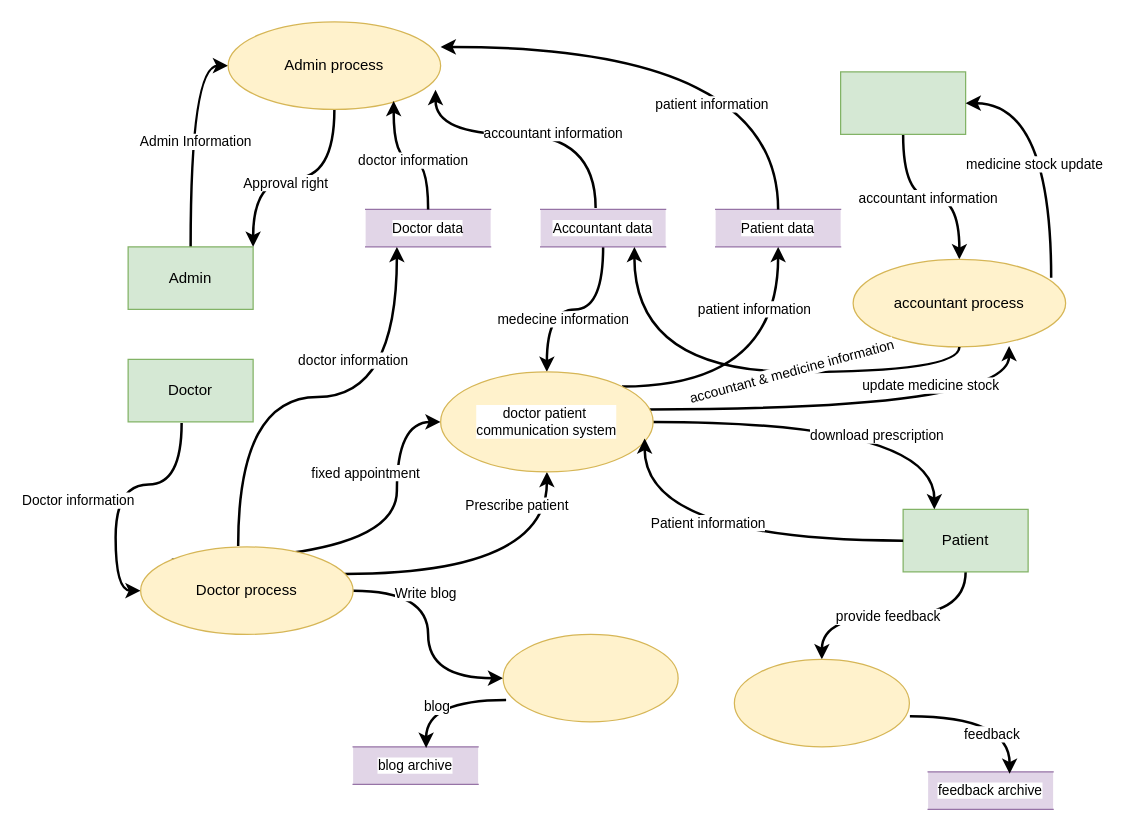
Image size: 1124x831. Some labels were removed from this diagram. Here are the shapes that lost their labels. From the top down, the centre of each, then its label:
At (902,102): "accountant".
At (590,677): "Blog process".
At (821,702): "Feedback mechanism".
